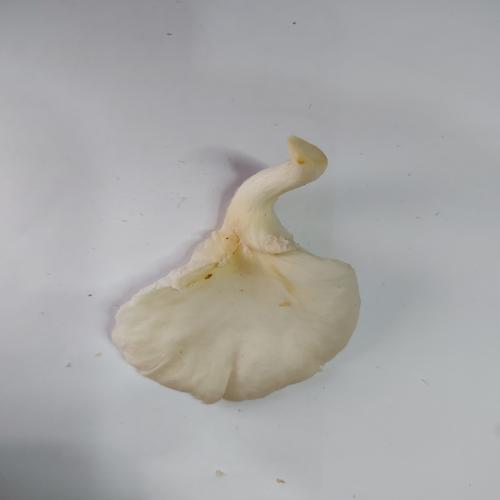Oyster Mushroom: (109, 134, 362, 405)
